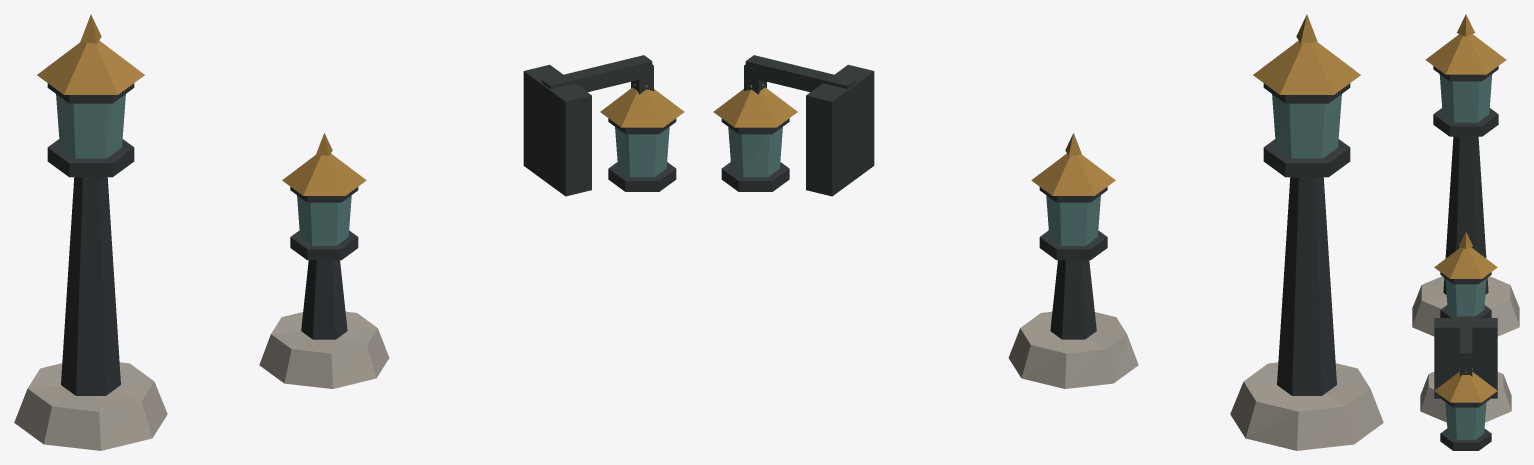
File: lanterns.source.glb
3 views of the same model, side by side, from view 1: azimuth 30°, elevation 25°; view 2: azimuth 150°, elevation 25°; view 3: azimuth 270°, elevation 25° (orthographic). The views are drawn at different scales.
Parts seen in each view (by area): view 1: lanterns-tall-tapered-post-mesh, lanterns-tall-stone-base-mesh, lanterns-wall-mounting-plate-mesh, lanterns-bollard-stone-base-mesh, lanterns-tall-lantern-brass-roof-mesh, lanterns-tall-lantern-glass-mesh, lanterns-bollard-post-mesh, lanterns-bollard-lantern-brass-roof-mesh, lanterns-wall-lantern-brass-roof-mesh, lanterns-bollard-lantern-glass-mesh, lanterns-wall-lantern-glass-mesh, lanterns-wall-hook-horizontal-mesh (+3 smaller); view 2: lanterns-tall-tapered-post-mesh, lanterns-tall-stone-base-mesh, lanterns-wall-mounting-plate-mesh, lanterns-bollard-stone-base-mesh, lanterns-tall-lantern-brass-roof-mesh, lanterns-tall-lantern-glass-mesh, lanterns-bollard-post-mesh, lanterns-bollard-lantern-brass-roof-mesh, lanterns-wall-lantern-brass-roof-mesh, lanterns-bollard-lantern-glass-mesh, lanterns-wall-lantern-glass-mesh, lanterns-wall-hook-horizontal-mesh (+3 smaller); view 3: lanterns-tall-tapered-post-mesh, lanterns-wall-mounting-plate-mesh, lanterns-tall-stone-base-mesh, lanterns-tall-lantern-brass-roof-mesh, lanterns-tall-lantern-glass-mesh, lanterns-bollard-stone-base-mesh, lanterns-bollard-lantern-brass-roof-mesh, lanterns-wall-lantern-brass-roof-mesh, lanterns-bollard-lantern-glass-mesh, lanterns-wall-lantern-glass-mesh, lanterns-tall-lantern-lower-ring-mesh, lanterns-wall-lantern-lower-ring-mesh (+8 smaller).
Boxes of the visible parts, bbox=[...] form: lanterns-tall-tapered-post-mesh: bbox=[61, 177, 120, 395]; lanterns-tall-stone-base-mesh: bbox=[14, 362, 167, 450]; lanterns-wall-mounting-plate-mesh: bbox=[523, 64, 591, 196]; lanterns-bollard-stone-base-mesh: bbox=[259, 311, 389, 388]; lanterns-tall-lantern-brass-roof-mesh: bbox=[37, 40, 144, 94]; lanterns-tall-lantern-glass-mesh: bbox=[56, 94, 125, 158]; lanterns-bollard-post-mesh: bbox=[301, 260, 347, 339]; lanterns-bollard-lantern-brass-roof-mesh: bbox=[282, 153, 366, 195]; lanterns-wall-lantern-brass-roof-mesh: bbox=[600, 87, 684, 127]; lanterns-bollard-lantern-glass-mesh: bbox=[297, 195, 351, 245]; lanterns-wall-lantern-glass-mesh: bbox=[615, 127, 669, 177]; lanterns-wall-hook-horizontal-mesh: bbox=[542, 55, 652, 92]; lanterns-tall-tapered-post-mesh: bbox=[1277, 177, 1336, 395]; lanterns-tall-stone-base-mesh: bbox=[1230, 362, 1383, 450]; lanterns-wall-mounting-plate-mesh: bbox=[806, 64, 874, 196]; lanterns-bollard-stone-base-mesh: bbox=[1008, 311, 1138, 388]; lanterns-tall-lantern-brass-roof-mesh: bbox=[1253, 40, 1360, 94]; lanterns-tall-lantern-glass-mesh: bbox=[1272, 94, 1341, 158]; lanterns-bollard-post-mesh: bbox=[1050, 260, 1096, 339]; lanterns-bollard-lantern-brass-roof-mesh: bbox=[1031, 153, 1115, 195]; lanterns-wall-lantern-brass-roof-mesh: bbox=[713, 87, 797, 127]; lanterns-bollard-lantern-glass-mesh: bbox=[1046, 195, 1100, 245]; lanterns-wall-lantern-glass-mesh: bbox=[728, 127, 782, 177]; lanterns-wall-hook-horizontal-mesh: bbox=[745, 55, 855, 92]; lanterns-tall-tapered-post-mesh: bbox=[1443, 136, 1488, 294]; lanterns-wall-mounting-plate-mesh: bbox=[1434, 318, 1497, 398]; lanterns-tall-stone-base-mesh: bbox=[1412, 276, 1519, 336]; lanterns-tall-lantern-brass-roof-mesh: bbox=[1425, 34, 1506, 74]; lanterns-tall-lantern-glass-mesh: bbox=[1439, 74, 1492, 122]; lanterns-bollard-stone-base-mesh: bbox=[1420, 372, 1511, 422]; lanterns-bollard-lantern-brass-roof-mesh: bbox=[1434, 247, 1497, 278]; lanterns-wall-lantern-brass-roof-mesh: bbox=[1434, 372, 1497, 402]; lanterns-bollard-lantern-glass-mesh: bbox=[1445, 278, 1486, 316]; lanterns-wall-lantern-glass-mesh: bbox=[1445, 402, 1486, 439]; lanterns-tall-lantern-lower-ring-mesh: bbox=[1433, 108, 1498, 136]; lanterns-wall-lantern-lower-ring-mesh: bbox=[1440, 429, 1491, 450].
Size of the model in its own units: 4.42 by 2.65 by 0.85.
